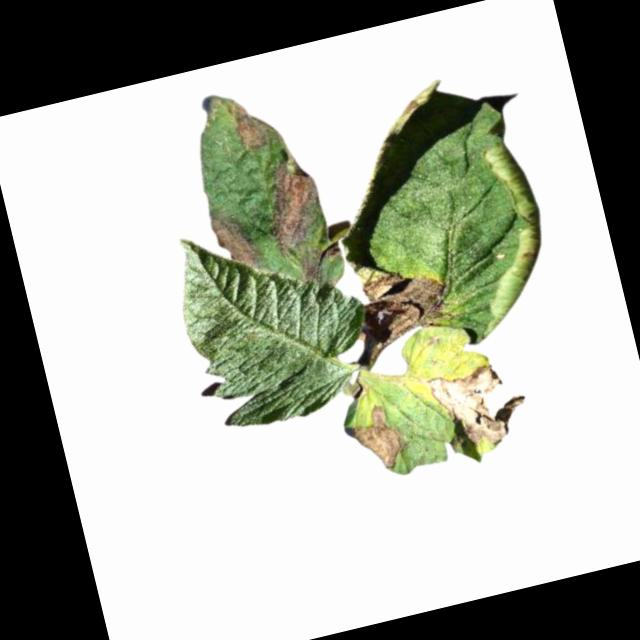Late_blight: (422, 351, 533, 453), (344, 255, 460, 350), (254, 147, 334, 258), (339, 400, 413, 478), (208, 202, 261, 275), (227, 89, 275, 153), (296, 239, 347, 285)
healthy: (164, 199, 387, 440)
